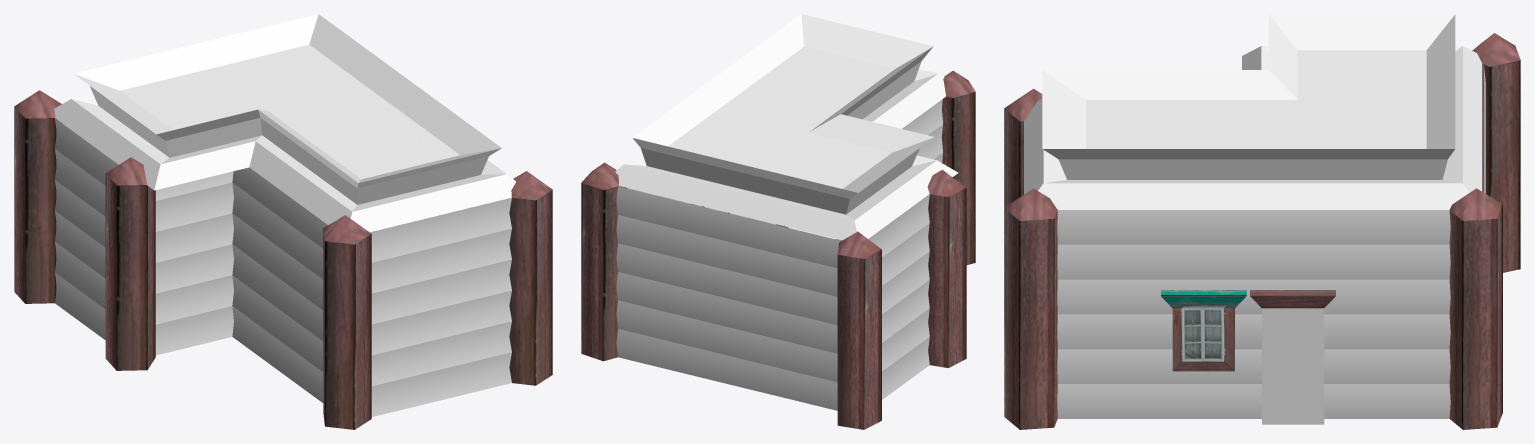
File: House5.fbx
3 views of the same model, side by side, from view 1: azimuth 30°, elevation 25°; view 2: azimuth 150°, elevation 25°; view 3: azimuth 270°, elevation 25° (orthographic). The views are drawn at different scales.
Visible parts, largest first — view 1: Window006; view 2: Window006; view 3: Window006.
Boxes of the visible parts, bbox=[...] form: Window006: bbox=[14, 14, 552, 429]; Window006: bbox=[581, 14, 975, 429]; Window006: bbox=[1004, 14, 1520, 429].
Size of the model in its own units: 657 by 807 by 446.
